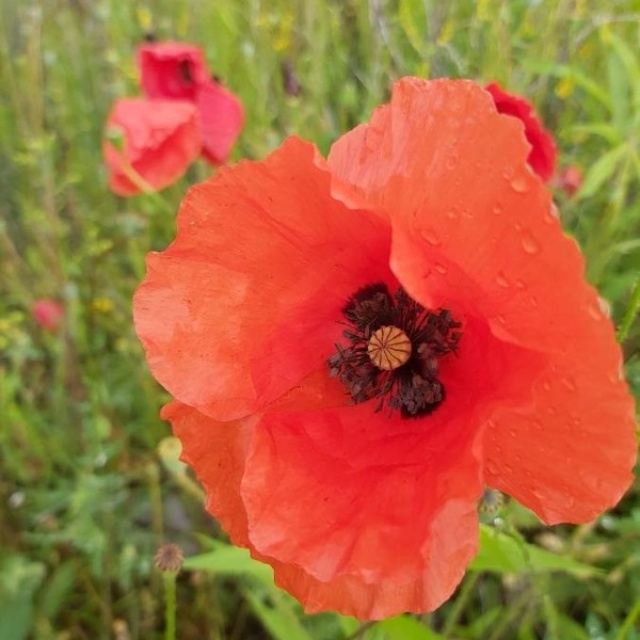obstacle: (127, 87, 596, 594)
